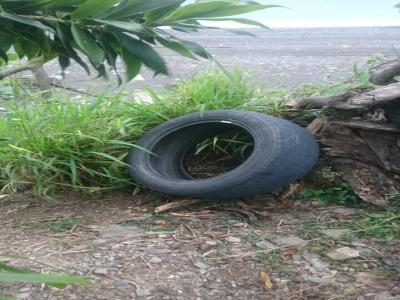tire: (129, 109, 320, 202)
